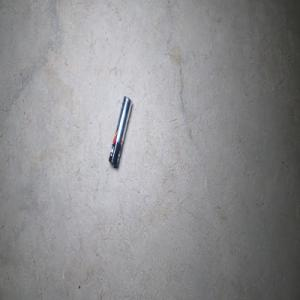Battery: (108, 95, 132, 167)
